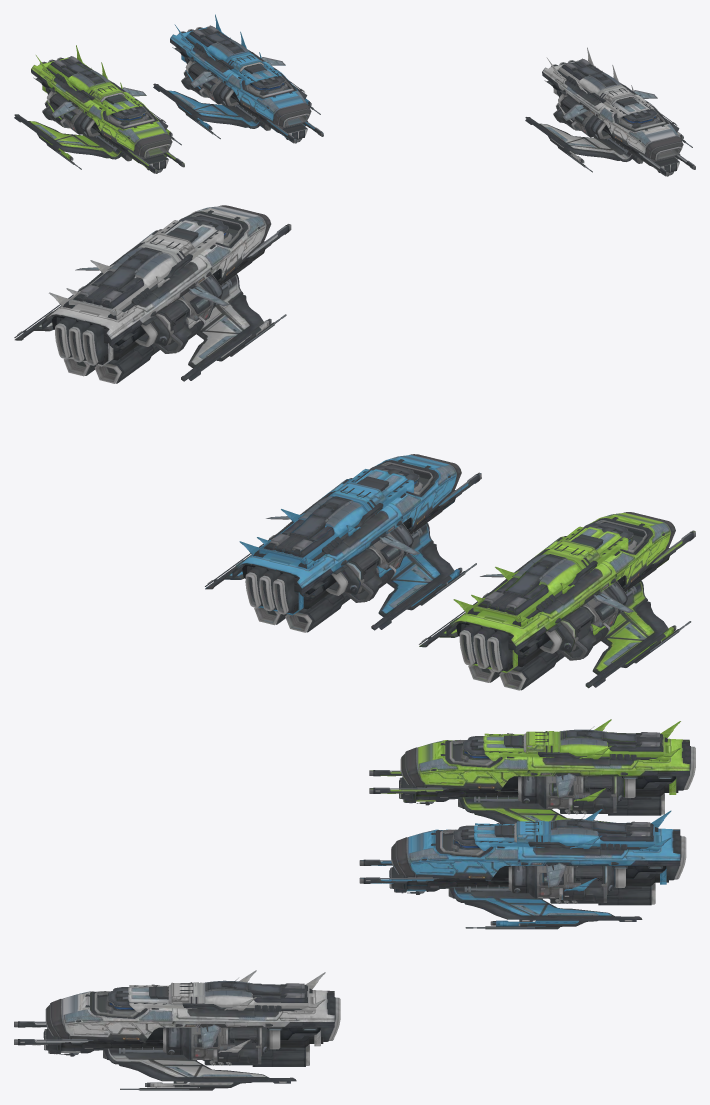
File: class3_fighter.glb
3 views of the same model, one above another, from view 1: azimuth 30°, elevation 25°; view 2: azimuth 150°, elevation 25°; view 3: azimuth 270°, elevation 25° (orthographic). The views are drawn at different scales.
Parts seen in each view (by area): view 1: Cube.005_Spaceship_2_0, Cube.034_Spaceship_1_0, Cube.007_Spaceship_0; view 2: Cube.007_Spaceship_0, Cube.005_Spaceship_2_0, Cube.034_Spaceship_1_0; view 3: Cube.034_Spaceship_1_0, Cube.007_Spaceship_0, Cube.005_Spaceship_2_0.
Part boxes in pixels (x1,y1,x2,y2): Cube.005_Spaceship_2_0: (14, 45, 184, 173); Cube.034_Spaceship_1_0: (153, 14, 323, 143); Cube.007_Spaceship_0: (525, 47, 695, 176); Cube.007_Spaceship_0: (14, 205, 291, 383); Cube.005_Spaceship_2_0: (419, 512, 695, 690); Cube.034_Spaceship_1_0: (205, 454, 481, 632); Cube.034_Spaceship_1_0: (359, 809, 686, 929); Cube.007_Spaceship_0: (14, 970, 340, 1090); Cube.005_Spaceship_2_0: (369, 719, 695, 823).
Bounding box in the file's own units: 120 × 13.49 × 107.
Materials: 3 (3 with a texture image).
